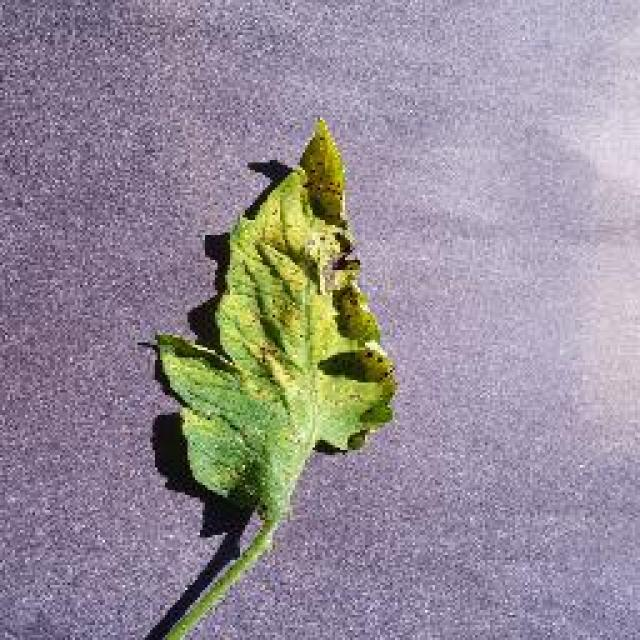Tomato___Septoria_leaf_spot: (158, 120, 392, 638)
